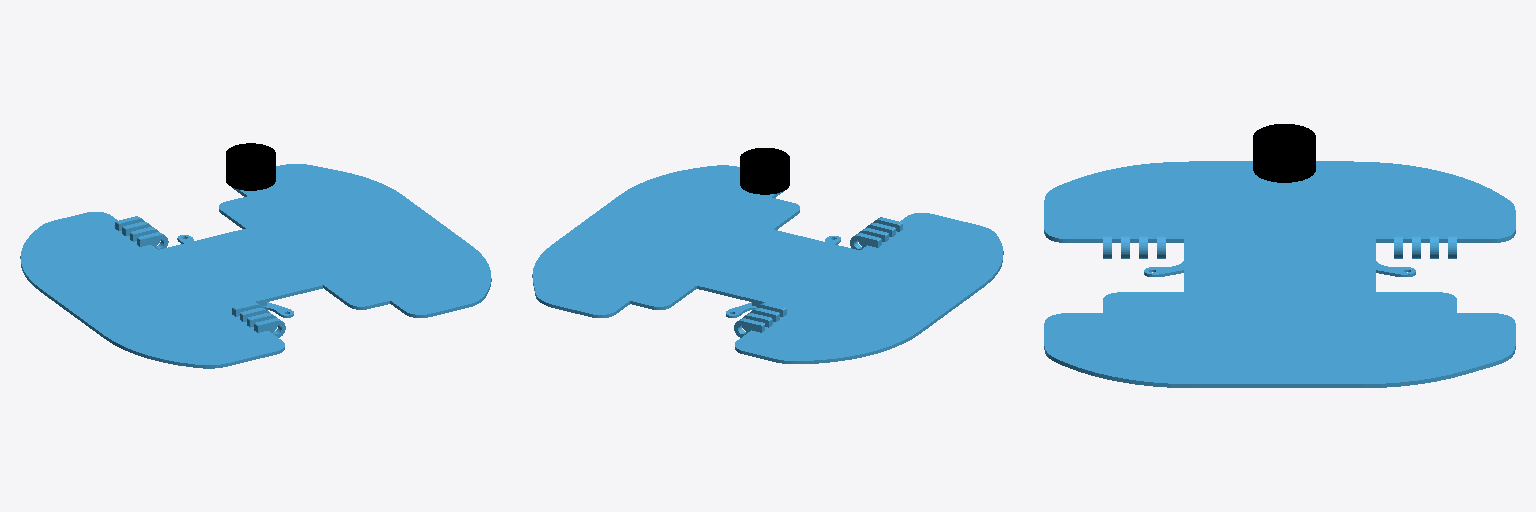
robot.urdf — custom_robo:
<?xml version="1.0"?>
<robot name="custom_robo">

  <!-- WORLD link removed so odom can serve as the dynamic parent TF -->

  <!-- ROBOT REFERENCE FRAME (AXLE / GROUND REFERENCE) -->
  <link name="base_footprint"/>

  <!-- BASE LINK -->
  <link name="base_link">
    <visual>
      <!--
        CAD origin is at a corner.
        X/Y shift centers the mesh.
        Z shift is raised so the base equator aligns with wheel axle height.
      -->
      <origin xyz="-0.293165 -0.26707 -0.0127" rpy="1.57079632679 0 1.57079632679"/>
      <geometry>
        <mesh filename="package://hospital_description/meshes/base.stl"
              scale="0.001 0.001 0.001"/>
      </geometry>
    </visual>
  </link>

  <joint name="base_footprint_to_base_link" type="fixed">
    <parent link="base_footprint"/>
    <child link="base_link"/>
    <origin xyz="0 0 0" rpy="0 0 0"/>
  </joint>

  <!-- LEFT WHEEL -->
  <link name="left_wheel">
    <visual>
      <origin xyz="0.0762 0 0.0762" rpy="0 1.5708 1.5708"/>
      <geometry>
        <mesh filename="package://hospital_description/meshes/left_wheel.stl"
              scale="0.001 0.001 0.001"/>
      </geometry>
    </visual>
  </link>

  <joint name="left_wheel_joint" type="continuous">
    <parent link="base_footprint"/>
    <child link="left_wheel"/>
    <origin xyz="0 0.2159 0" rpy="0 0 0"/>
    <axis xyz="0 -1 0"/>
  </joint>

  <!-- RIGHT WHEEL -->
  <link name="right_wheel">
    <visual>
      <!-- use SAME STL as left wheel, only mirrored by rotation -->
      <origin xyz="-0.0762 0 0.0762" rpy="0 1.5708 4.7124"/>
      <geometry>
        <mesh filename="package://hospital_description/meshes/left_wheel.stl"
              scale="0.001 0.001 0.001"/>
      </geometry>
    </visual>
  </link>

  <joint name="right_wheel_joint" type="continuous">
    <parent link="base_footprint"/>
    <child link="right_wheel"/>
    <origin xyz="0 -0.2159 0" rpy="0 0 0"/>
    <axis xyz="0 -1 0"/>
  </joint>

  <!-- RPLIDAR A2M8 -->
  <link name="laser">
    <visual>
      <origin xyz="0 0 0" rpy="0 0 0"/>
      <geometry>
        <cylinder radius="0.035" length="0.04"/>
      </geometry>
      <material name="black">
        <color rgba="0 0 0 1"/>
      </material>
    </visual>
  </link>

  <joint name="base_link_to_laser" type="fixed">
    <parent link="base_link"/>
    <child link="laser"/>
    <origin xyz="0 0 0.15" rpy="0 0 0"/>
  </joint>

</robot>

--- Render facts (derived) ---
3 views of the same robot in one strip: view 1: azimuth 30°, elevation 25°; view 2: azimuth 150°, elevation 25°; view 3: azimuth 270°, elevation 25° (orthographic).
Model custom_robo with 5 links and 4 joints (2 continuous, 2 fixed), rooted at base_footprint, posed every joint at zero.
Links seen in each view (by area): view 1: base_link, laser; view 2: base_link, laser; view 3: base_link, laser.
Link boxes in pixels (<box>): base_link: <box>20,164,491,368</box>; laser: <box>226,143,275,190</box>; base_link: <box>532,165,1003,363</box>; laser: <box>740,148,789,194</box>; base_link: <box>1044,161,1515,387</box>; laser: <box>1253,124,1315,182</box>.
Bounding box of the posed robot: 0.5863 × 0.524 × 0.1827 m (x, y, z).
1 mesh visuals loaded from 2 distinct referenced files (1 binary STL); not drawn: 2 (reference not matched to a file when rendering).
